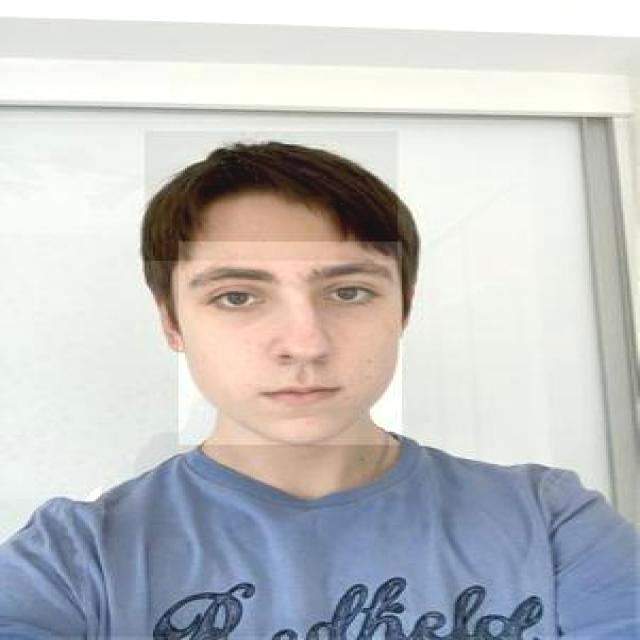face_nomask: (178, 242, 402, 444)
head_nohelmet: (144, 131, 398, 261)
person: (0, 121, 638, 638)
